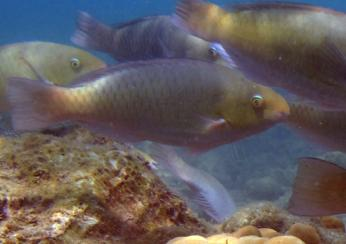Scaridae -Parrotfishes-: (4, 54, 292, 148), (172, 0, 346, 109), (72, 4, 239, 70), (0, 33, 115, 114)
